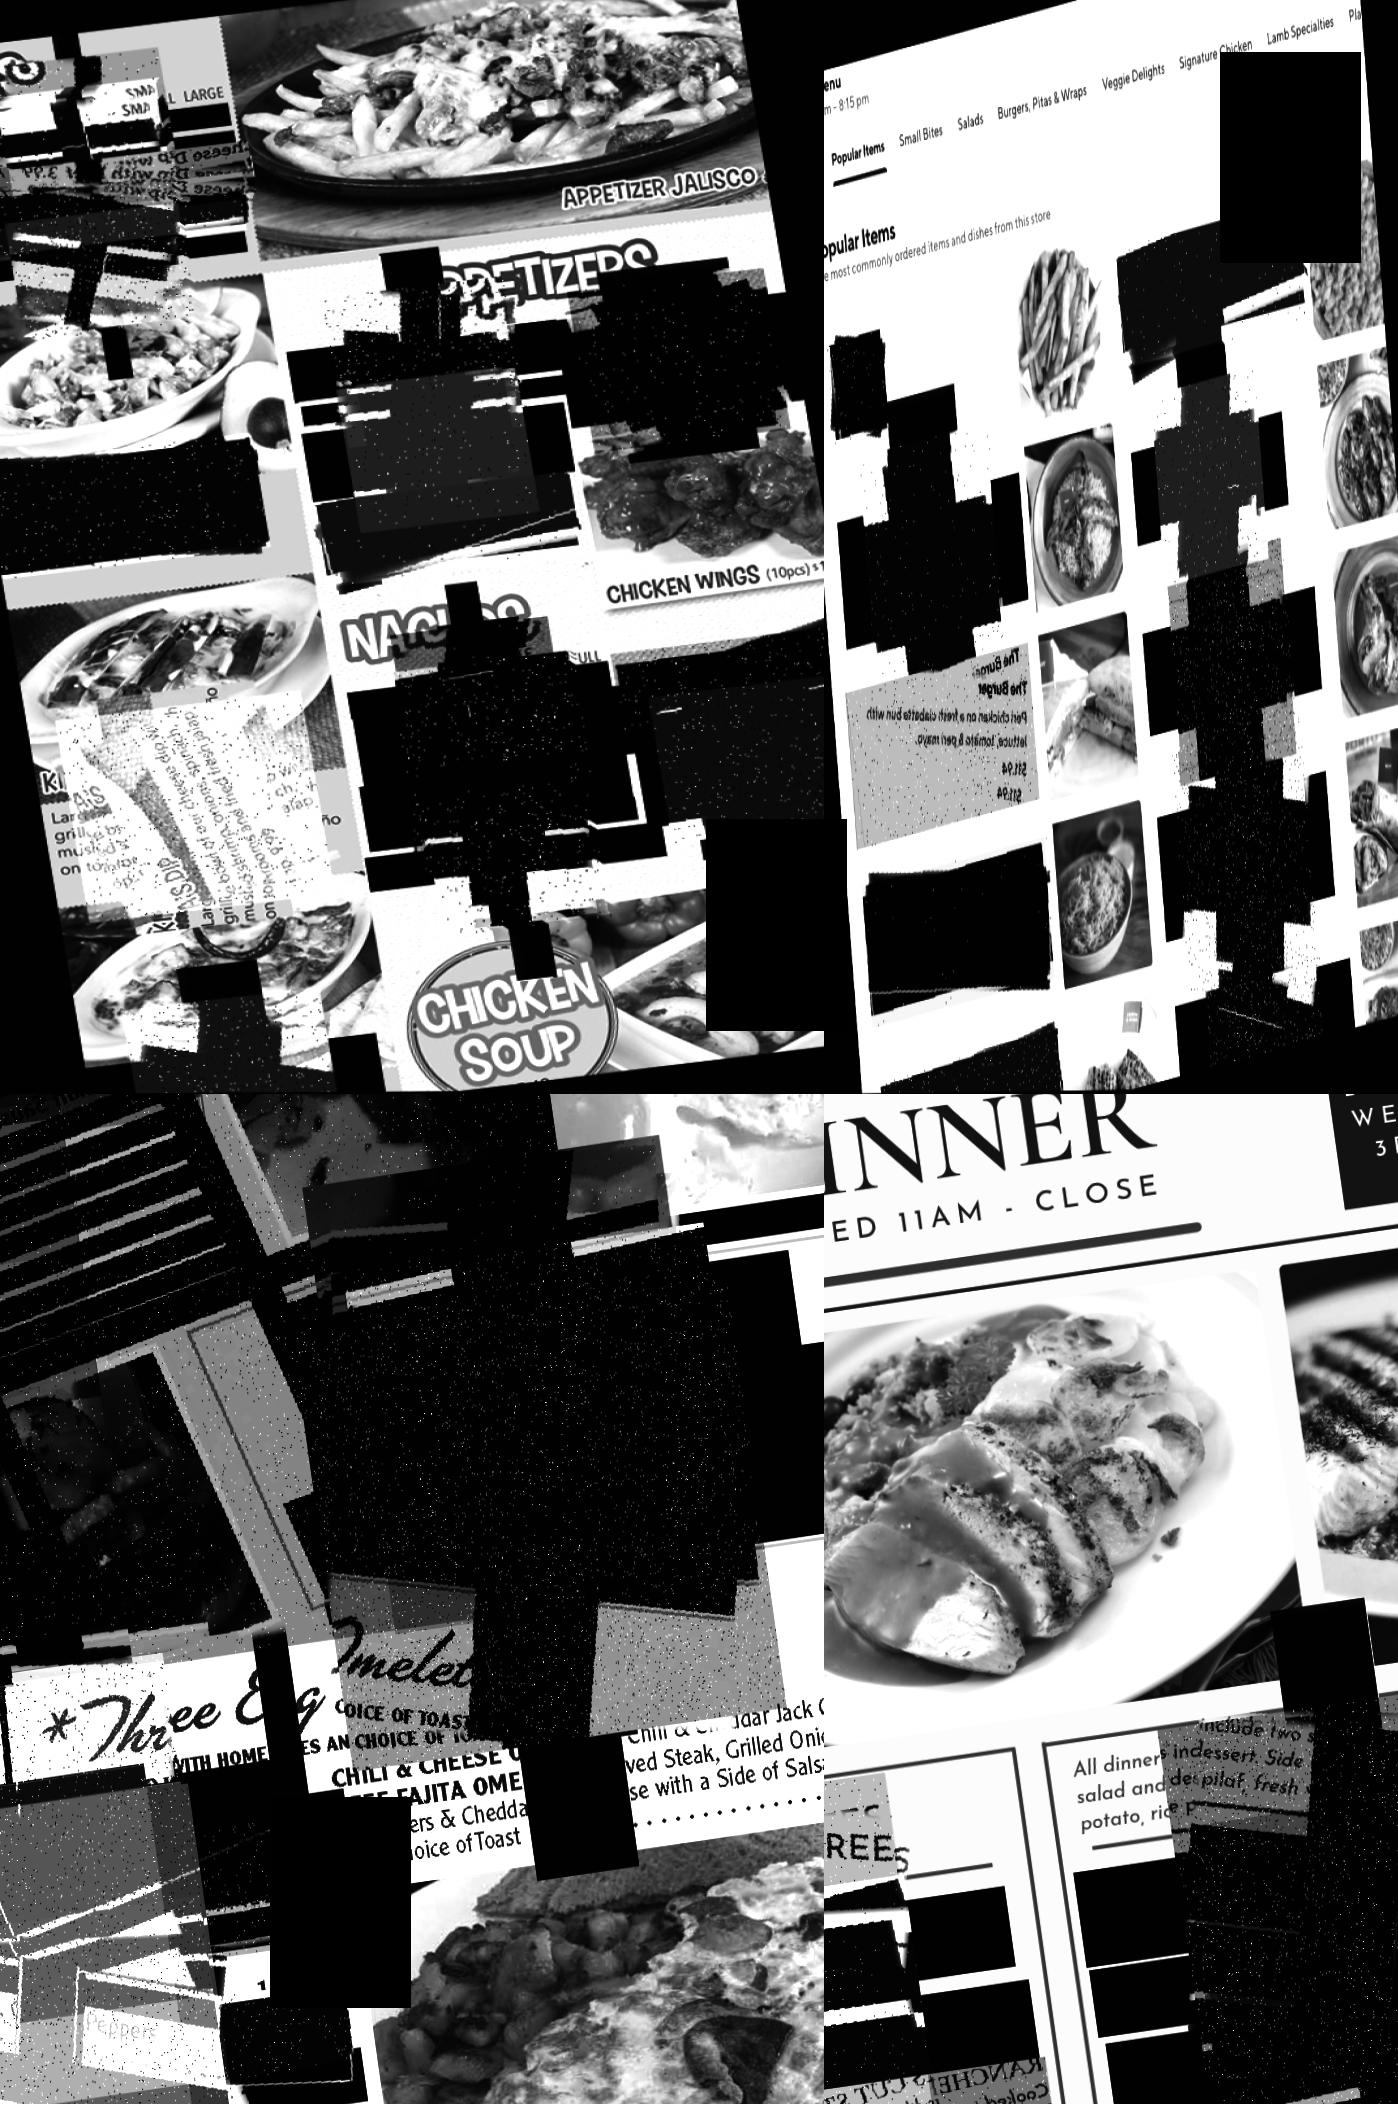Menu-Items: (0, 1093, 619, 1702), (292, 1277, 786, 1773), (304, 1135, 713, 1547), (345, 1224, 754, 1636), (1158, 1681, 1398, 2084), (0, 1653, 215, 2085), (329, 1714, 824, 1876), (0, 1783, 245, 2104), (0, 1815, 335, 2038), (0, 1625, 176, 2023), (1194, 1784, 1398, 2104), (55, 691, 335, 923), (0, 1769, 193, 2104), (325, 1672, 824, 1792), (0, 1897, 254, 2104), (1192, 1853, 1398, 2104), (0, 1979, 356, 2104), (566, 268, 791, 454), (860, 421, 1008, 700), (1172, 717, 1320, 997), (846, 643, 1039, 852), (0, 432, 270, 579), (0, 1100, 105, 1474), (0, 1232, 229, 1397), (863, 836, 1058, 1029), (824, 1772, 936, 2104), (0, 1093, 111, 1429), (323, 276, 530, 449), (0, 1093, 101, 1444), (335, 368, 540, 538), (395, 652, 599, 822), (1117, 200, 1312, 373), (0, 176, 201, 343), (1167, 538, 1298, 786), (398, 713, 596, 877), (312, 473, 582, 591), (0, 47, 183, 217), (421, 777, 612, 937), (0, 1096, 208, 1243), (1209, 1943, 1398, 2104), (646, 675, 824, 845), (824, 1875, 950, 2104), (0, 81, 183, 236), (389, 616, 569, 764), (1150, 368, 1268, 593), (0, 1093, 206, 1213), (418, 753, 588, 897), (122, 987, 339, 1093), (349, 334, 516, 471), (0, 140, 256, 228), (610, 627, 824, 730), (1200, 891, 1323, 1068), (0, 172, 250, 250), (0, 200, 247, 267), (878, 1029, 1064, 1093), (825, 326, 889, 446)
